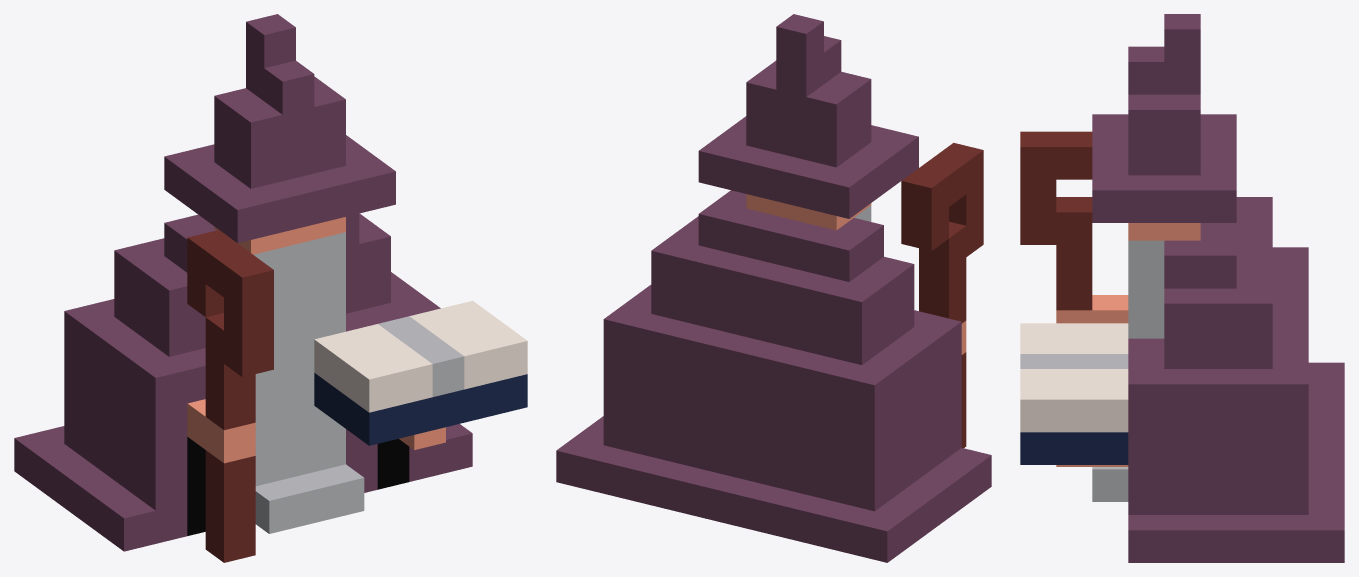
The model's file is mage.obj.
The picture shows the model from 3 angles, left to right: view 1: azimuth 30°, elevation 25°; view 2: azimuth 150°, elevation 25°; view 3: azimuth 270°, elevation 25°; orthographic projection. The views are drawn at different scales.
Bounding box in the file's own units: 1.1 × 1.4 × 0.9.
Materials: 1 (1 with a texture image).
